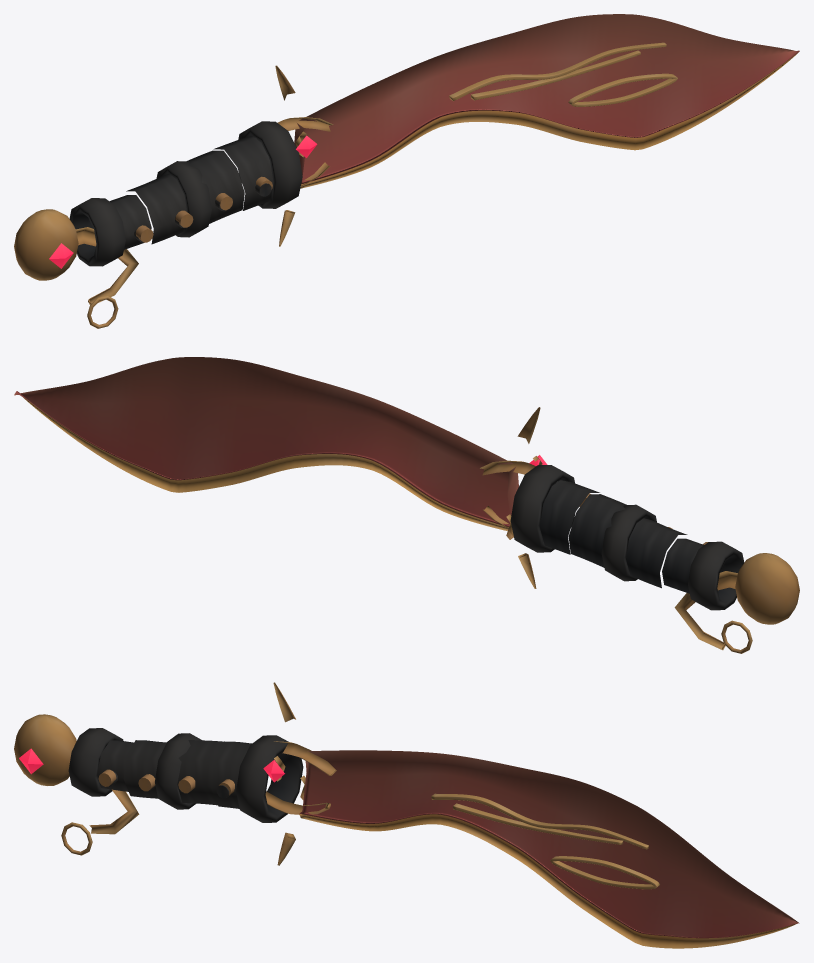
Rendered from dragonfang-kukri-procedural-r7.glb.
3 renders of one model, top to bottom at view 1: azimuth 30°, elevation 25°; view 2: azimuth 150°, elevation 25°; view 3: azimuth 330°, elevation 25°, orthographic.
Visible parts, largest first — view 1: knife-part:blade-body, knife-part:grip, knife-part:cutting-edge, knife-part:pommel, knife-part:relief-dragon-spine, knife-part:guard, knife-part:relief-dragon-belly; view 2: knife-part:blade-body, knife-part:grip, knife-part:pommel, knife-part:cutting-edge, knife-part:guard; view 3: knife-part:blade-body, knife-part:grip, knife-part:cutting-edge, knife-part:pommel, knife-part:relief-dragon-spine, knife-part:guard, knife-part:relief-dragon-belly.
Part boxes in pixels (x1,y1,x2,y2): knife-part:blade-body: [294, 14, 799, 184]; knife-part:grip: [69, 121, 302, 266]; knife-part:cutting-edge: [300, 52, 798, 188]; knife-part:pommel: [14, 209, 138, 328]; knife-part:relief-dragon-spine: [449, 42, 666, 101]; knife-part:guard: [275, 65, 333, 246]; knife-part:relief-dragon-belly: [568, 73, 677, 106]; knife-part:blade-body: [14, 357, 518, 526]; knife-part:grip: [510, 465, 744, 610]; knife-part:pommel: [674, 553, 799, 653]; knife-part:cutting-edge: [23, 397, 508, 530]; knife-part:guard: [480, 407, 542, 588]; knife-part:blade-body: [299, 750, 799, 938]; knife-part:grip: [68, 728, 303, 822]; knife-part:cutting-edge: [299, 813, 796, 948]; knife-part:pommel: [14, 714, 139, 855]; knife-part:relief-dragon-spine: [431, 793, 648, 849]; knife-part:guard: [265, 682, 336, 865]; knife-part:relief-dragon-belly: [550, 856, 659, 889].
Bounding box in the file's own units: 3.14 × 0.8002 × 0.3128.
